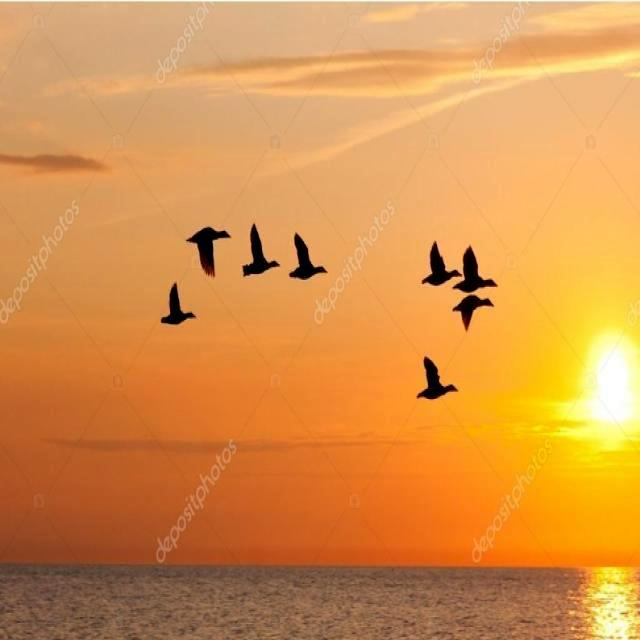bird: (416, 348, 464, 409), (158, 278, 204, 333), (186, 222, 231, 278), (416, 234, 458, 288), (458, 241, 499, 294), (243, 222, 278, 281), (290, 230, 326, 280), (450, 293, 496, 330)
